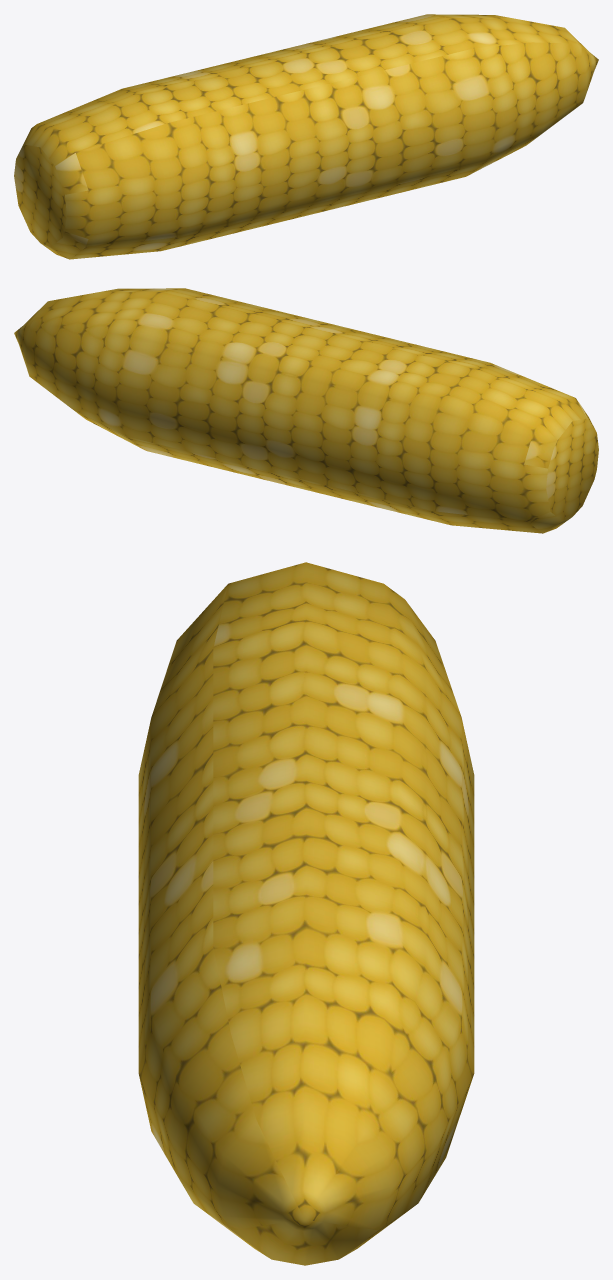
Rendered from mdl_Corn.fbx.
3 renders of one model, top to bottom at view 1: azimuth 30°, elevation 25°; view 2: azimuth 150°, elevation 25°; view 3: azimuth 270°, elevation 25°, orthographic. The views are drawn at different scales.
Visible parts, largest first — view 1: Cylinder.002; view 2: Cylinder.002; view 3: Cylinder.002.
Part boxes in pixels (box(x1,y1,x2,y2)): Cylinder.002: box(14, 14, 598, 259); Cylinder.002: box(14, 288, 598, 533); Cylinder.002: box(138, 562, 474, 1265).
Size of the model in its own units: 159 by 41.37 by 41.37.
